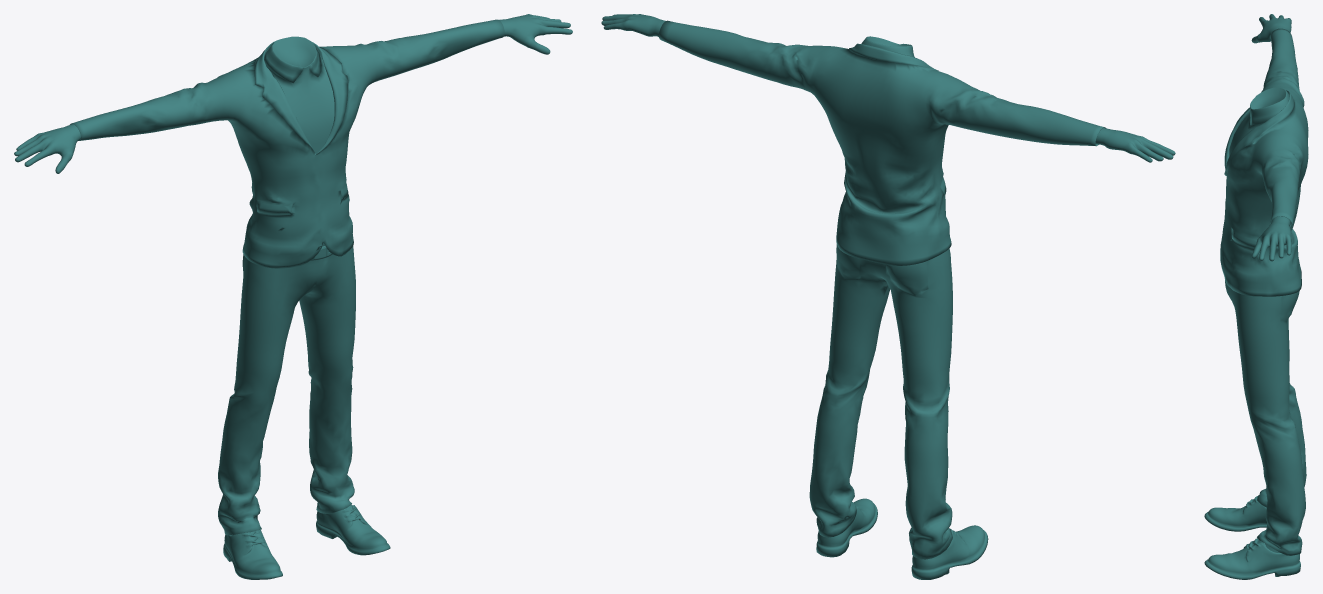
File: player.fbx
3 renders of one model, left to right at view 1: azimuth 30°, elevation 25°; view 2: azimuth 150°, elevation 25°; view 3: azimuth 270°, elevation 25°, orthographic. The views are drawn at different scales.
Visible parts, largest first — view 1: Ch23_Suit, Ch23_Pants, Ch23_Shirt, Ch23_Shoes, Ch23_Body; view 2: Ch23_Suit, Ch23_Pants, Ch23_Shoes, Ch23_Body; view 3: Ch23_Suit, Ch23_Pants, Ch23_Shoes, Ch23_Body, Ch23_Shirt.
Boxes of the visible parts, x1,y1,x2,y2 form: Ch23_Suit: (70, 19, 504, 268); Ch23_Pants: (218, 246, 355, 535); Ch23_Shirt: (264, 36, 334, 246); Ch23_Shoes: (223, 504, 390, 579); Ch23_Body: (14, 14, 572, 534); Ch23_Suit: (659, 20, 1105, 265); Ch23_Pants: (809, 244, 952, 559); Ch23_Shoes: (816, 498, 988, 579); Ch23_Body: (601, 14, 1175, 162); Ch23_Suit: (1220, 28, 1308, 296); Ch23_Pants: (1225, 280, 1306, 555); Ch23_Shoes: (1204, 496, 1300, 579); Ch23_Body: (1251, 14, 1291, 552); Ch23_Shirt: (1229, 87, 1289, 156).
Bounding box in the file's own units: 118 × 102 × 21.1.
